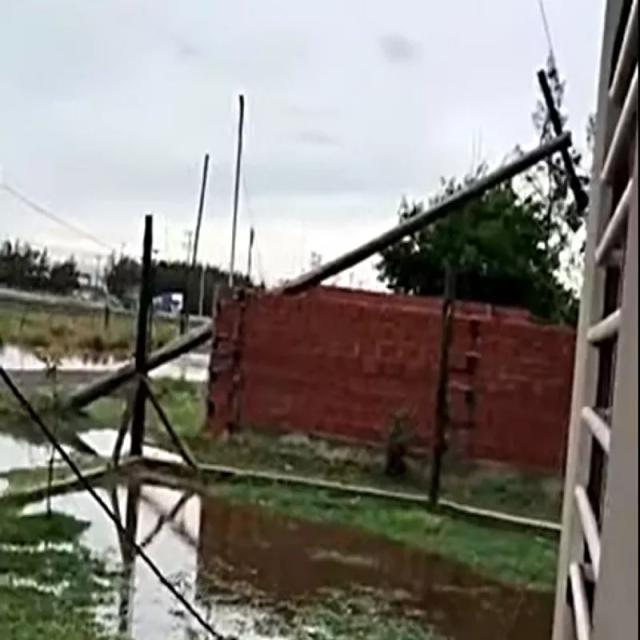Inclined Pole: (62, 58, 595, 414)
